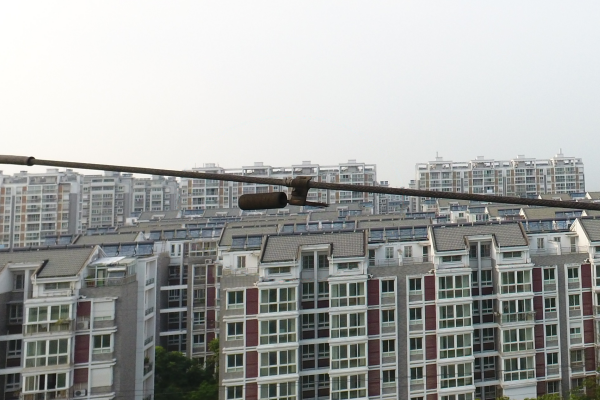damper_defect: (235, 172, 333, 212)
